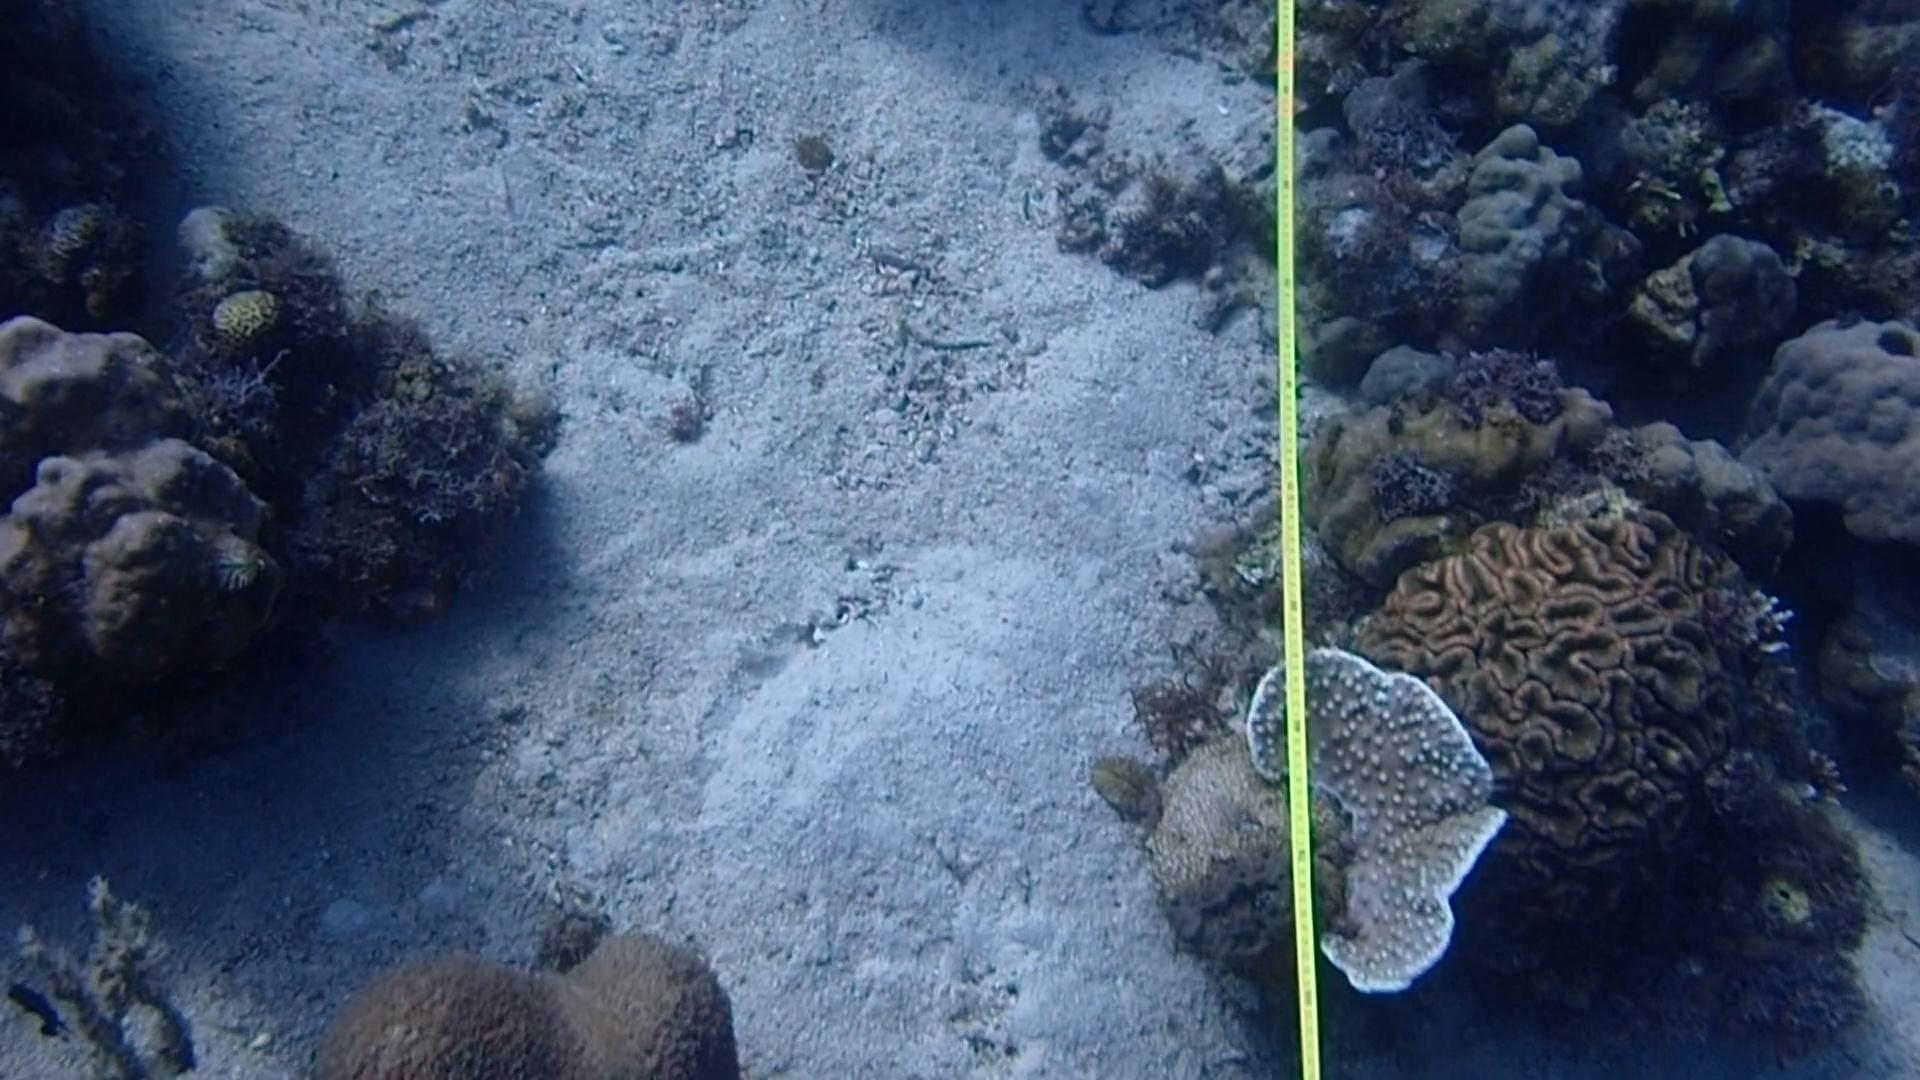Dark Fish: (3, 976, 76, 1048)
